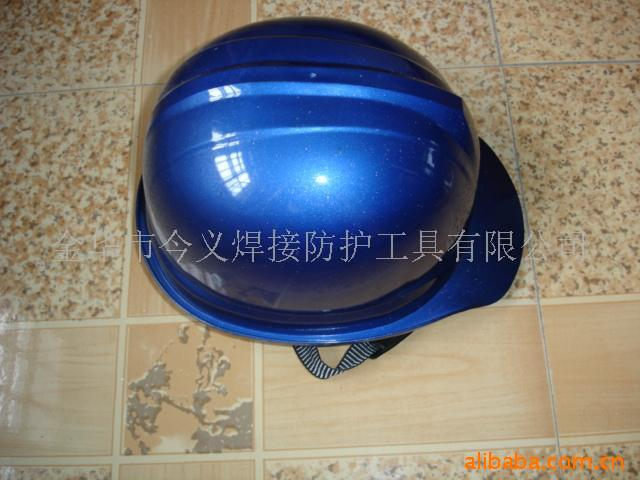helmet: (139, 19, 465, 323)
